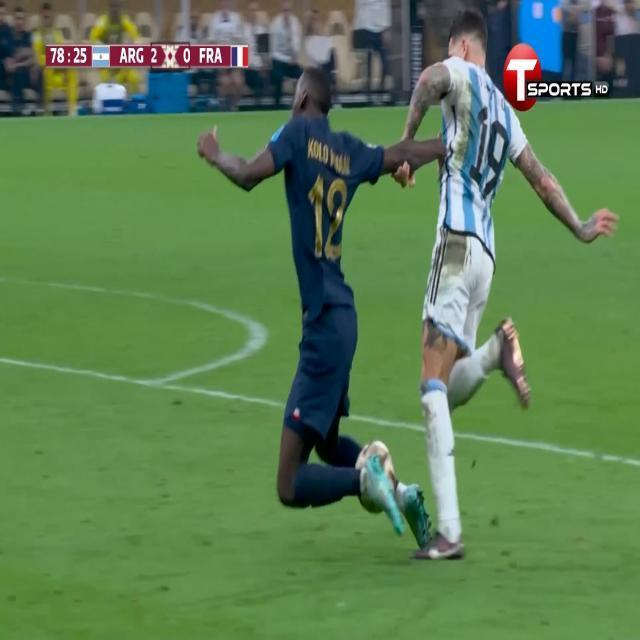ball: (357, 440, 394, 515)
player: (200, 72, 438, 590), (396, 15, 548, 567)
